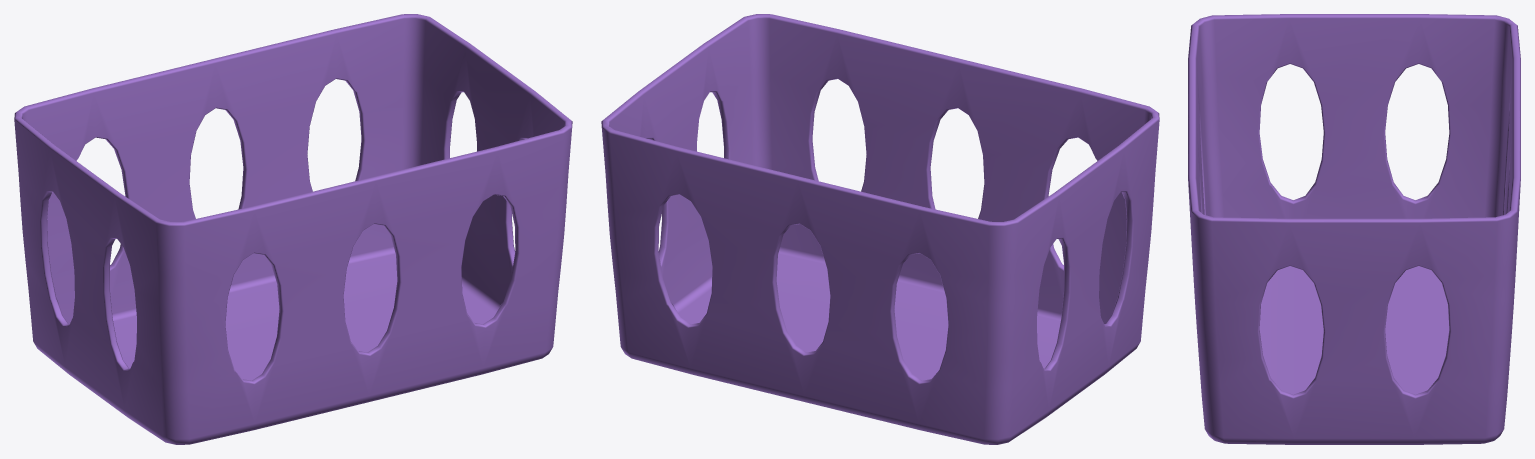
The model's file is Public_13_Basket_1.glb.
3 renders of one model, left to right at view 1: azimuth 30°, elevation 25°; view 2: azimuth 150°, elevation 25°; view 3: azimuth 270°, elevation 25°, orthographic.
Visible parts, largest first — view 1: Public_13_Basket_1; view 2: Public_13_Basket_1; view 3: Public_13_Basket_1.
Boxes of the visible parts, left/top/right/bottom form: Public_13_Basket_1: left=14, top=14, right=572, bottom=444; Public_13_Basket_1: left=601, top=14, right=1159, bottom=444; Public_13_Basket_1: left=1188, top=14, right=1520, bottom=444.
Size of the model in its own units: 1.36 by 0.7144 by 0.9172.
Materials: 1 (1 with a texture image).
